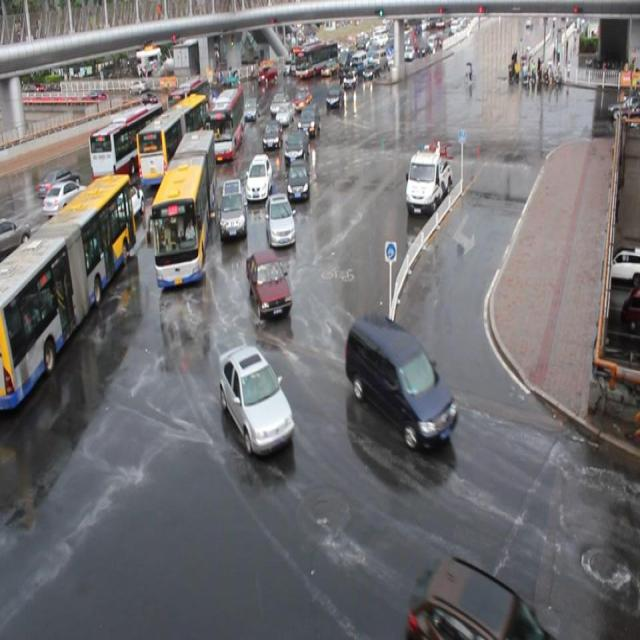bus: (406, 148, 452, 212)
car: (346, 311, 459, 449), (411, 554, 544, 640), (220, 342, 294, 456), (247, 248, 290, 316), (216, 177, 247, 243), (104, 179, 144, 225), (265, 193, 295, 247), (43, 184, 86, 213), (245, 156, 272, 201), (37, 165, 76, 192), (283, 126, 306, 167), (287, 160, 308, 200), (297, 102, 319, 134), (262, 118, 280, 151), (243, 95, 260, 124), (324, 85, 344, 107), (293, 86, 310, 110), (277, 104, 292, 128), (270, 92, 287, 113)
van: (1, 175, 135, 412), (150, 128, 219, 290), (138, 92, 210, 190), (88, 98, 165, 185), (210, 87, 242, 160), (168, 79, 214, 117)
